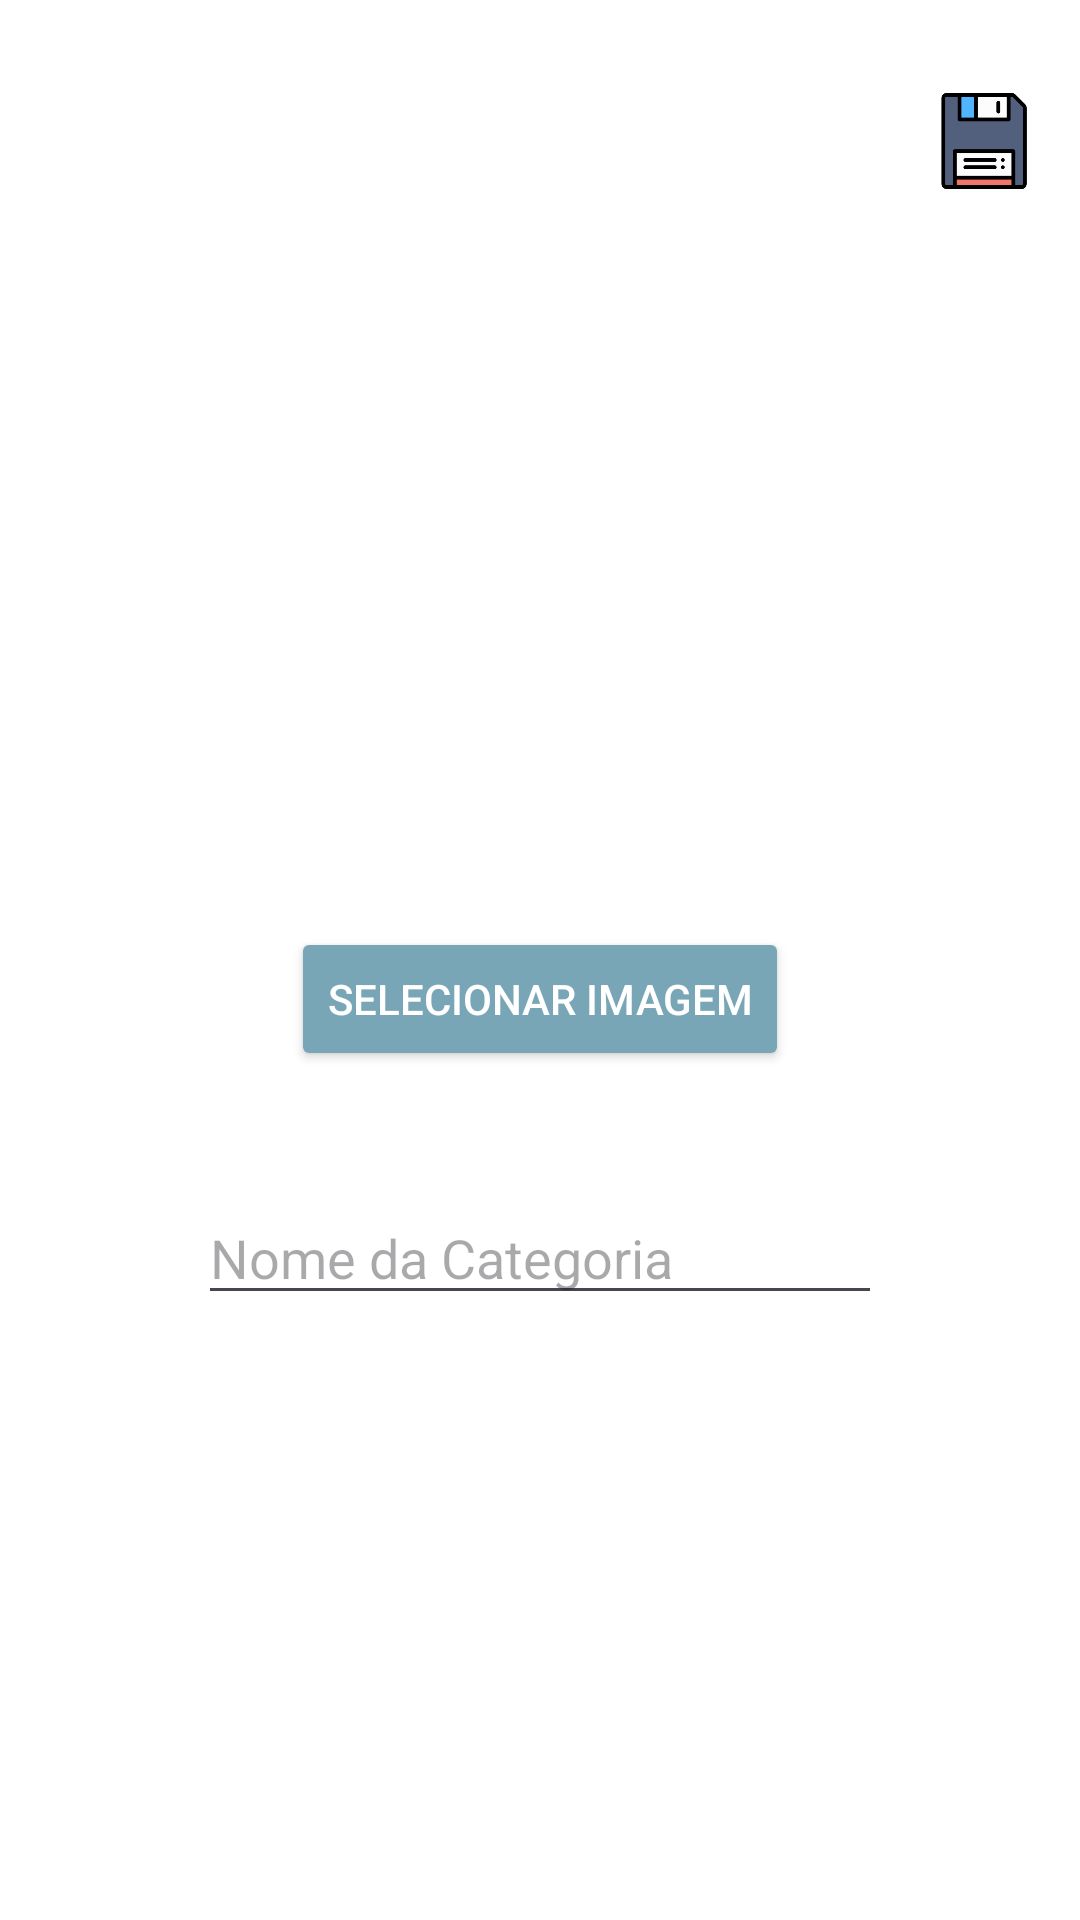

Icon click points for this 1080px x 1920px phone screenshot, format (x,y):
Salvar: (984,141)
